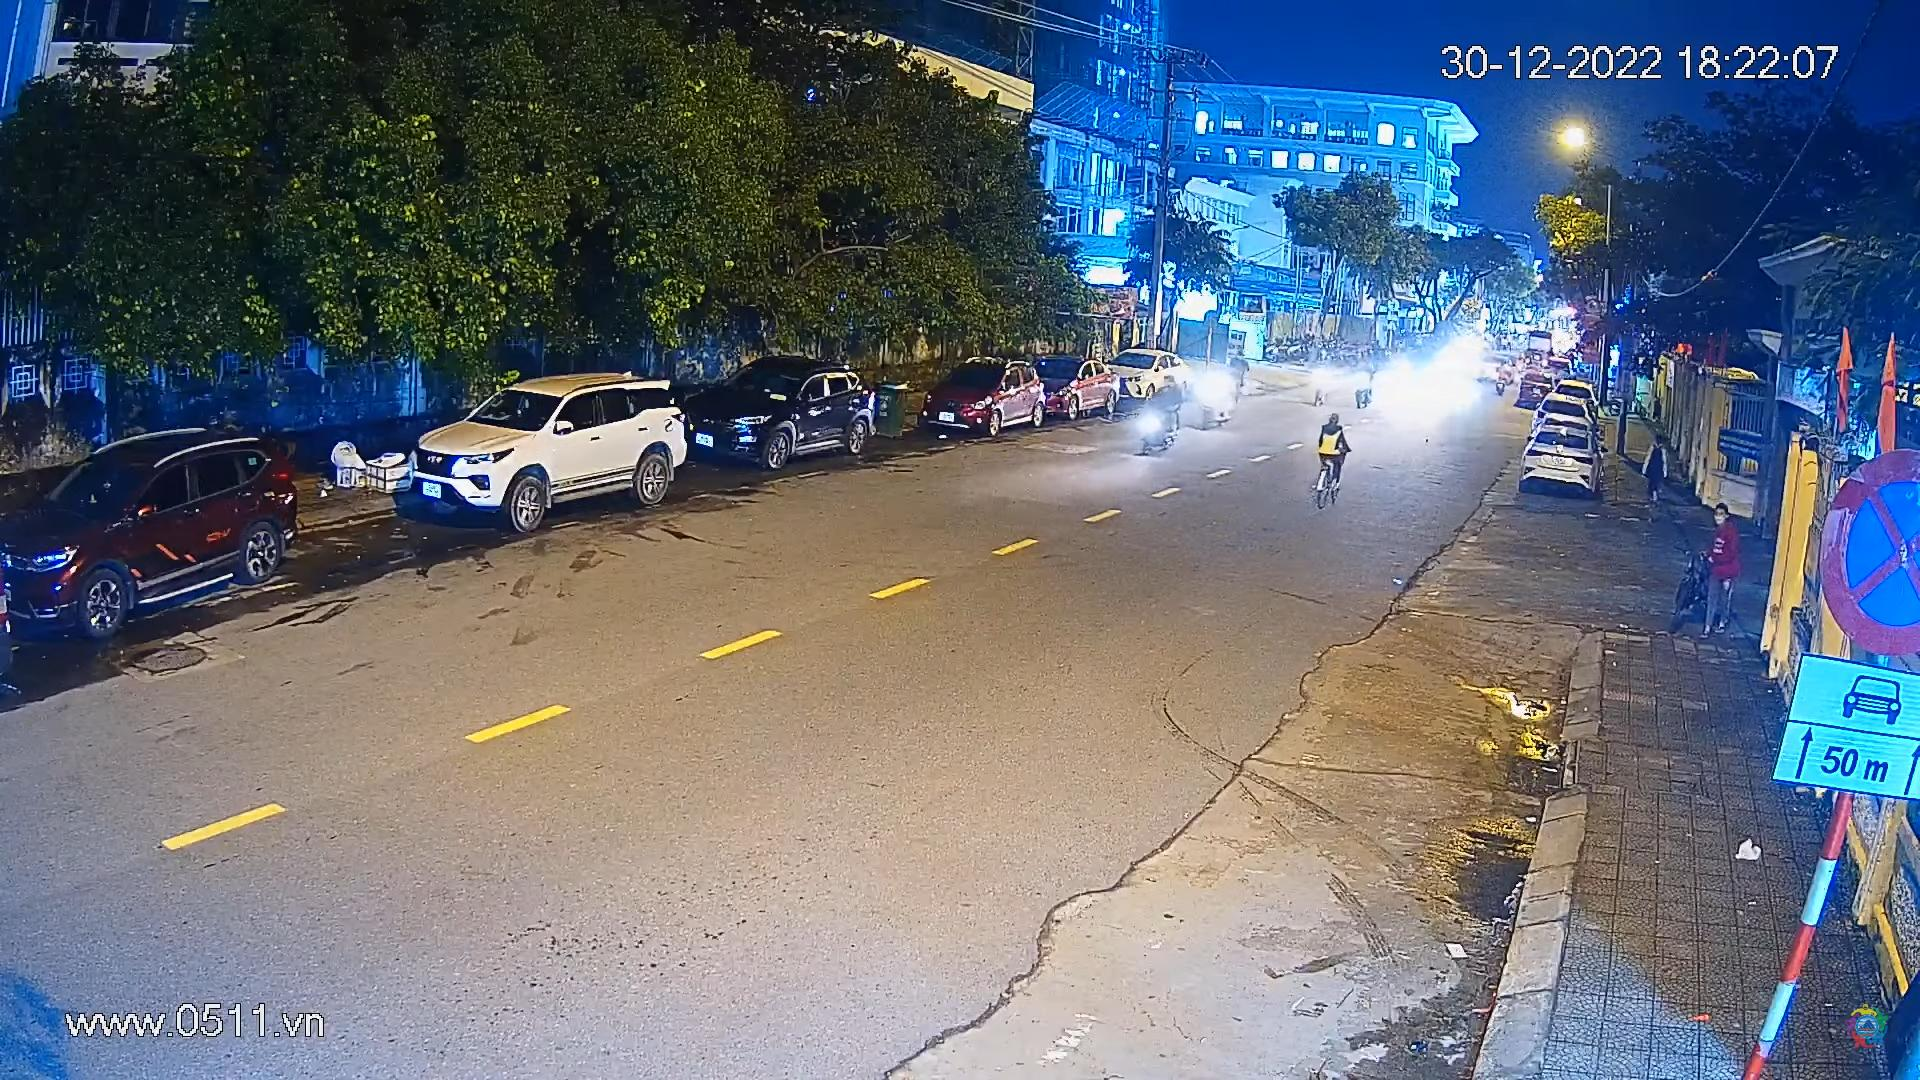bicycle: (1305, 410, 1354, 514)
car: (0, 421, 301, 645), (400, 356, 691, 554), (683, 347, 885, 484), (910, 355, 1052, 444), (1515, 413, 1604, 508), (1035, 351, 1126, 419), (1526, 390, 1594, 442), (1514, 369, 1555, 414)
motorcycle: (1134, 375, 1183, 459), (1191, 359, 1238, 434), (1350, 360, 1381, 410), (1305, 360, 1336, 407), (1491, 356, 1510, 397)
